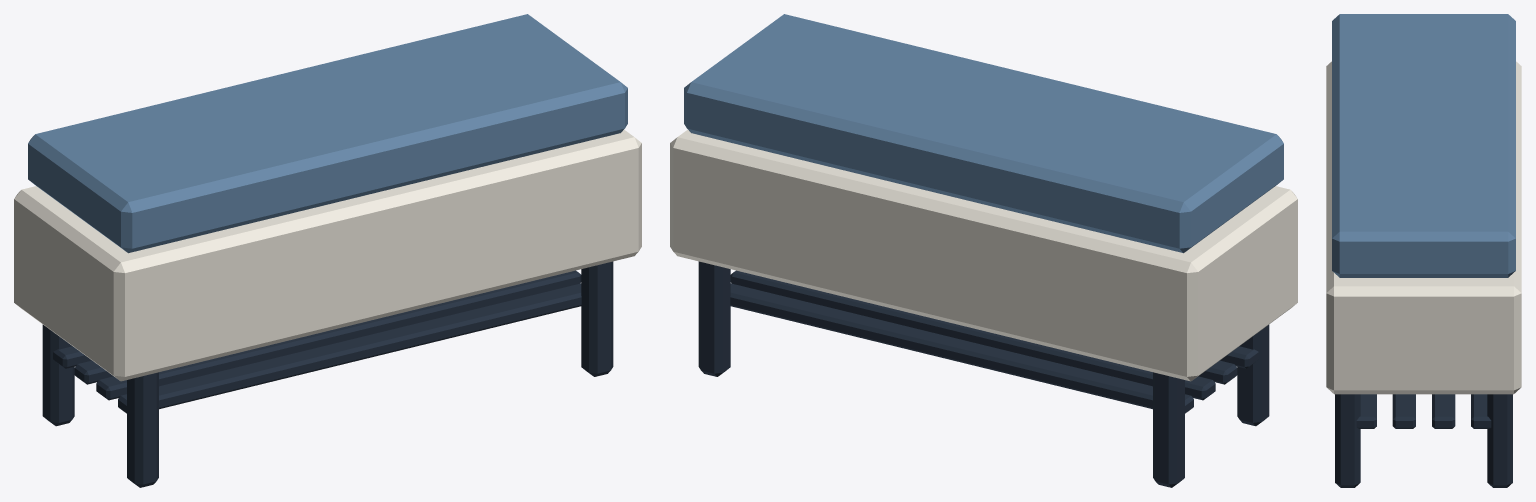
The model's file is storage_03.glb.
3 renders of one model, left to right at view 1: azimuth 30°, elevation 25°; view 2: azimuth 150°, elevation 25°; view 3: azimuth 270°, elevation 25°, orthographic. The views are drawn at different scales.
Parts seen in each view (by area): view 1: BenchBody, Cushion, SlattedShelf (×2), Leg (×3); view 2: BenchBody, Cushion, SlattedShelf (×2), Leg (×3); view 3: Cushion, BenchBody, Leg (×2), SlattedShelf (×4).
Boxes of the visible parts, x1,y1,x2,y2 form: BenchBody: (14, 129, 641, 381); Cushion: (28, 14, 627, 253); SlattedShelf (×2): (96, 270, 581, 413); Leg (×3): (42, 261, 613, 487); BenchBody: (670, 129, 1297, 381); Cushion: (684, 14, 1283, 253); SlattedShelf (×2): (730, 270, 1215, 413); Leg (×3): (698, 261, 1269, 487); Cushion: (1332, 14, 1515, 277); BenchBody: (1326, 61, 1521, 394); Leg (×2): (1335, 394, 1512, 487); SlattedShelf (×4): (1356, 394, 1491, 428).
Bounding box in the file's own units: 1.3 × 0.68 × 0.46.
